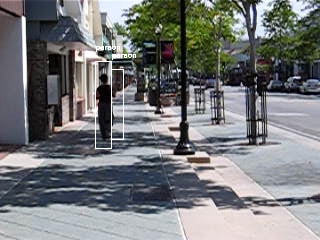person: (94, 74, 115, 140), (93, 74, 114, 140), (95, 74, 116, 140), (94, 73, 115, 139), (94, 75, 115, 141)
target_negative: (134, 86, 304, 155), (59, 81, 313, 112), (75, 83, 157, 167), (305, 157, 311, 225), (301, 162, 303, 223), (262, 217, 299, 218)
